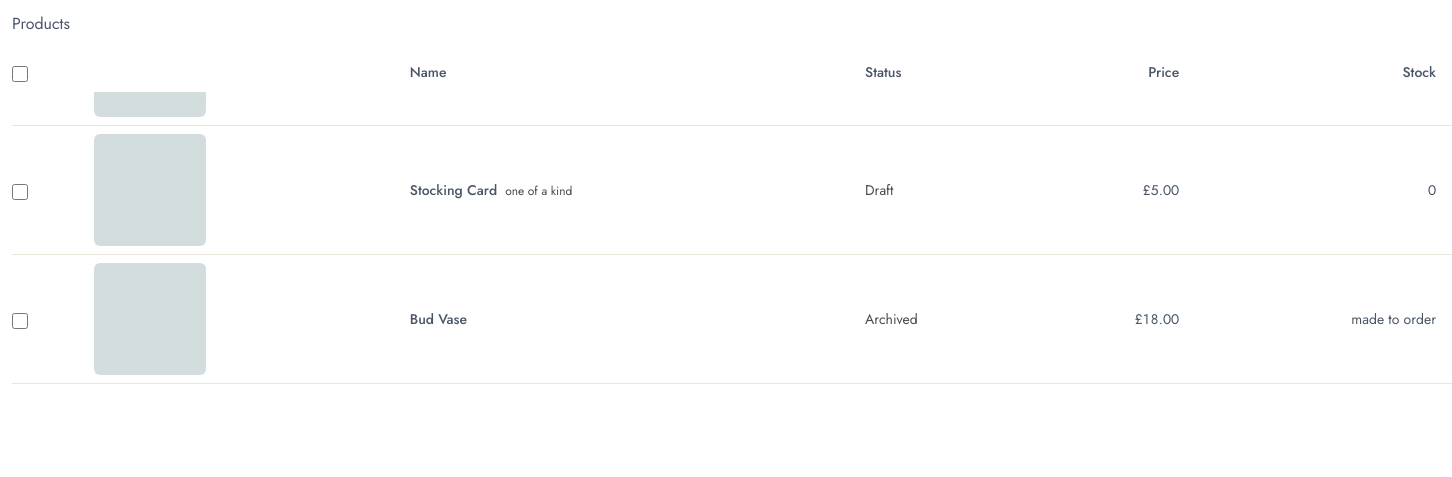
Test: ProductTable › chooses and clears everything from the header
Click the checkbox named "select all".
click(20, 74)  # box top-left (12, 66), bottom-right (28, 82)
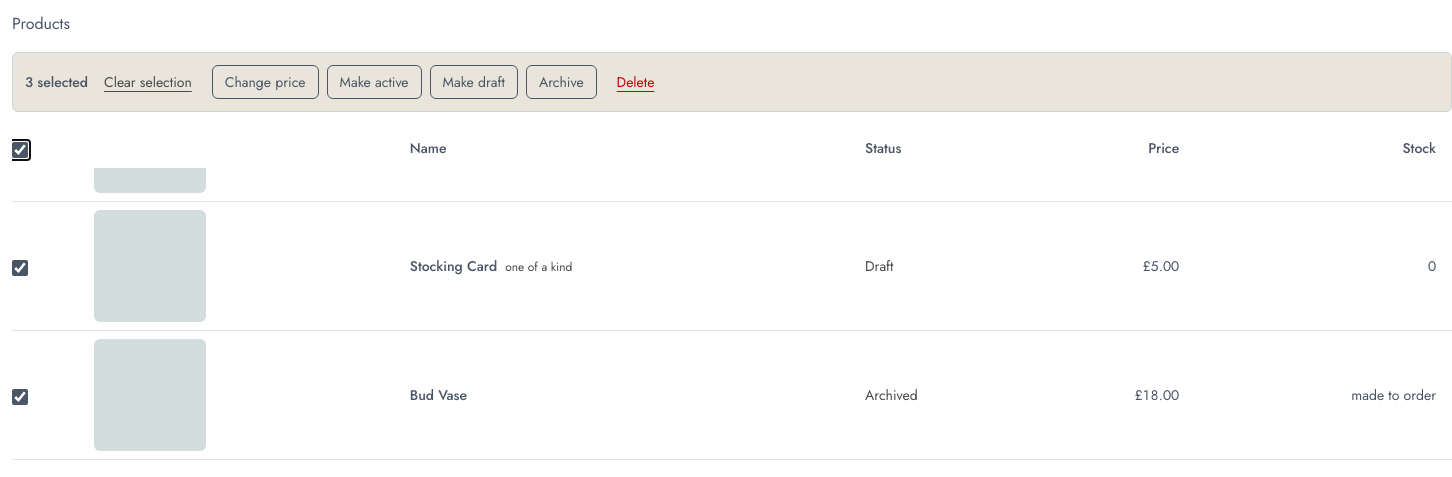
Check: the text "3 selected" is shown, box top-left (25, 72), bottom-right (88, 92)
Click the checkbox named "select all".
click(20, 150)  # box top-left (12, 142), bottom-right (28, 158)
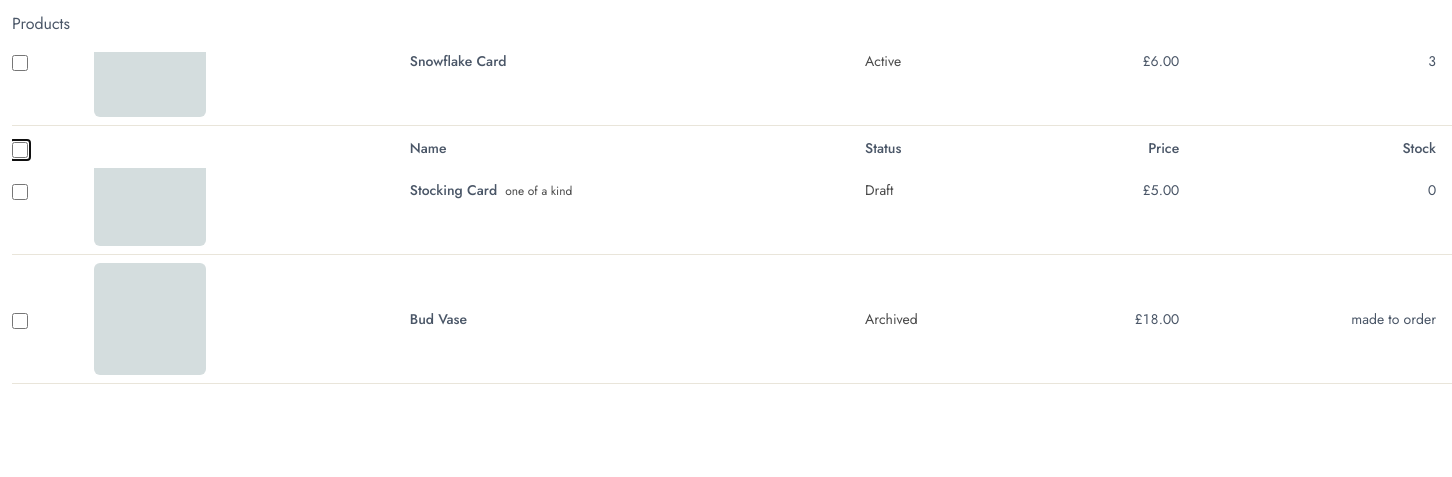
Check: the text "selected" is gone
